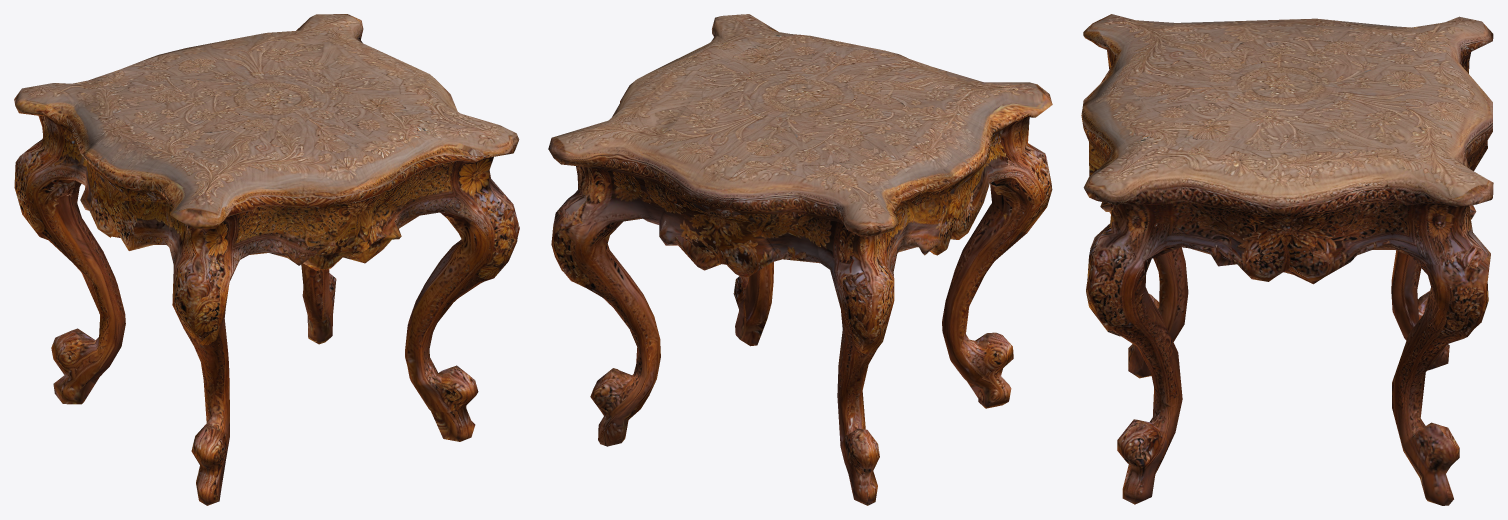
File: ornate_table.glb
3 views of the same model, side by side, from view 1: azimuth 30°, elevation 25°; view 2: azimuth 150°, elevation 25°; view 3: azimuth 270°, elevation 25° (orthographic). The views are drawn at different scales.
Bounding box in the file's own units: 1.2 × 1.08 × 1.13.
Materials: 1 (1 with a texture image).
